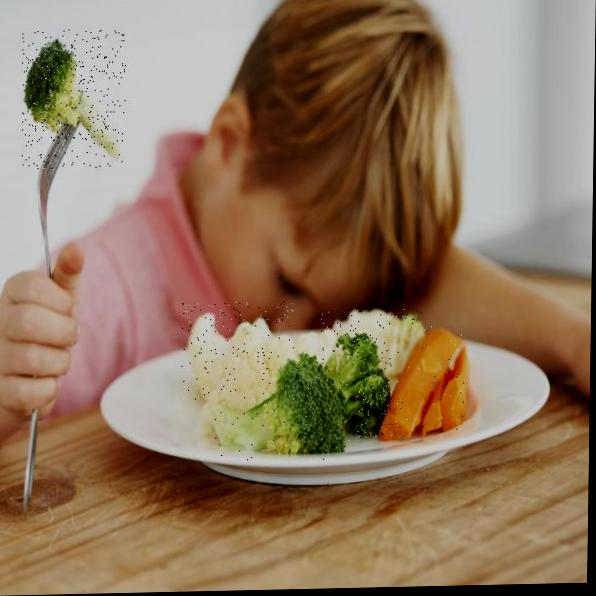Broccoli: (211, 358, 357, 463), (21, 28, 126, 171), (321, 334, 392, 439)
Cauliflower: (181, 301, 295, 403), (319, 308, 424, 372)
carrots: (389, 324, 469, 437)
